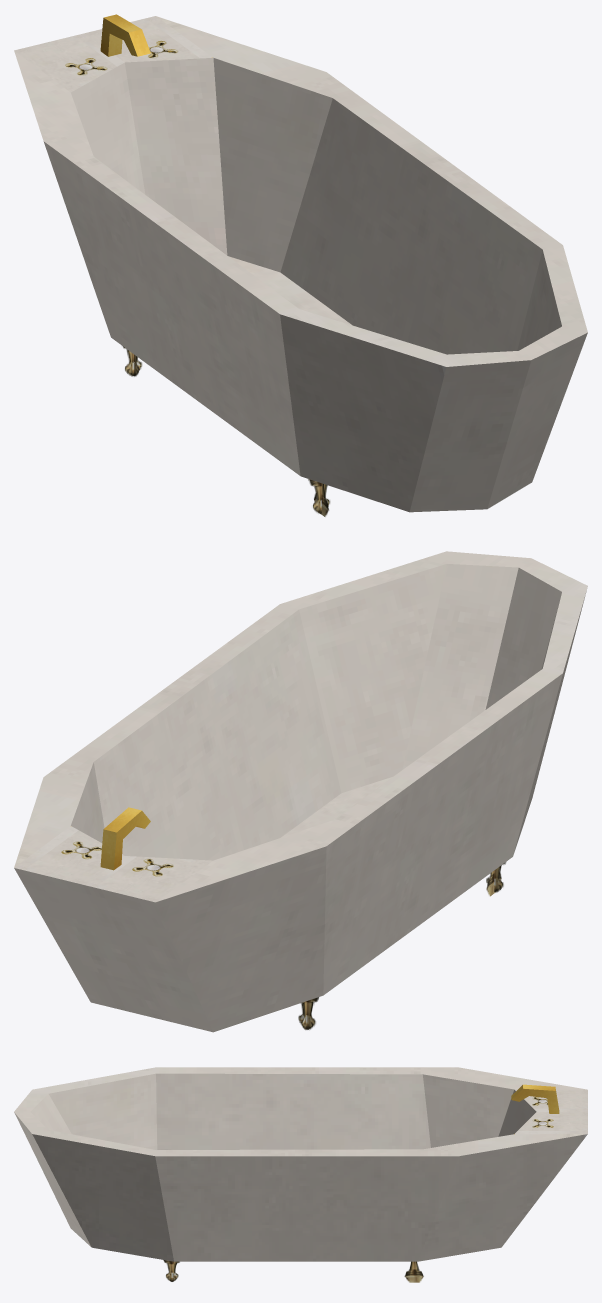
File: bath.glb
3 renders of one model, top to bottom at view 1: azimuth 30°, elevation 25°; view 2: azimuth 150°, elevation 25°; view 3: azimuth 270°, elevation 25°, orthographic. The views are drawn at different scales.
Visible parts, largest first — view 1: bath; view 2: bath; view 3: bath.
Part boxes in pixels (left/top/right/bottom): bath: left=14, top=14, right=587, bottom=516; bath: left=14, top=551, right=587, bottom=1032; bath: left=14, top=1067, right=587, bottom=1282.
Size of the model in its own units: 0.8448 by 0.7504 by 2.31.
1 material, 1 textured.
